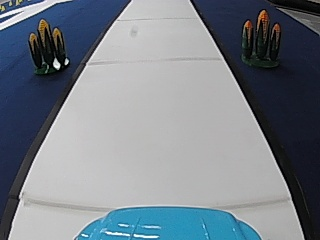corn: (238, 8, 282, 69), (27, 15, 70, 74)
